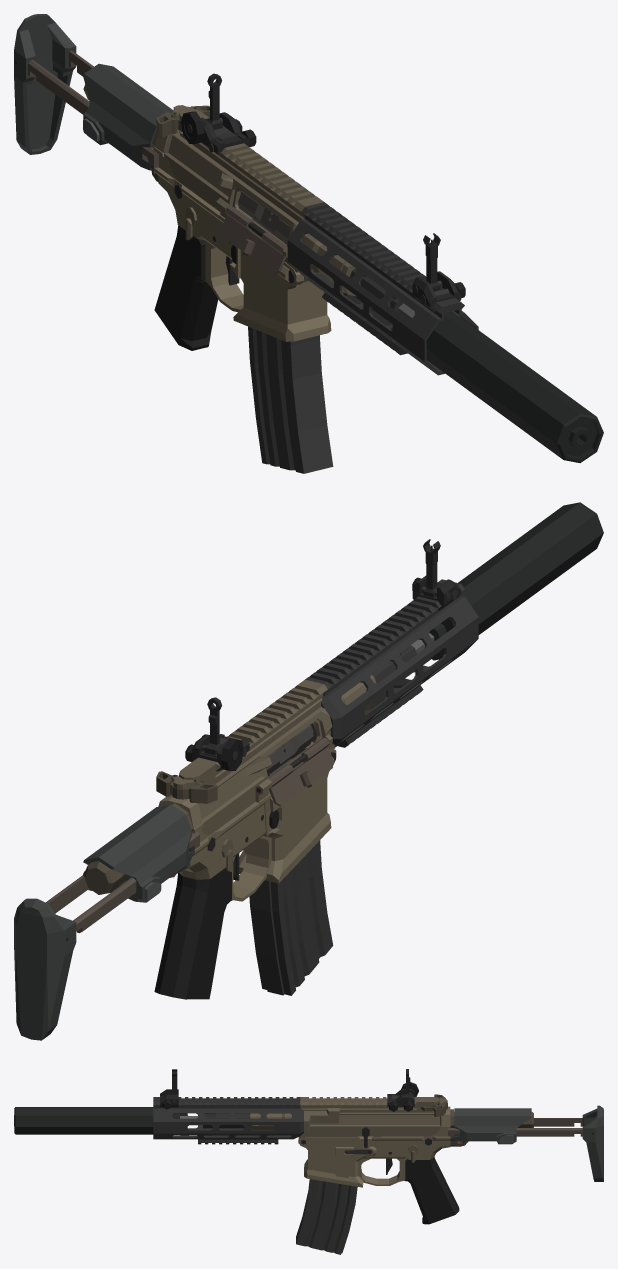
The model's file is HoneyBadger.fbx.
3 renders of one model, top to bottom at view 1: azimuth 30°, elevation 25°; view 2: azimuth 150°, elevation 25°; view 3: azimuth 270°, elevation 25°, orthographic. The views are drawn at different scales.
Visible parts, largest first — view 1: Cube.005; view 2: Cube.005; view 3: Cube.005.
Boxes of the visible parts, x1,y1,x2,y2 form: Cube.005: [14, 14, 603, 473]; Cube.005: [14, 502, 603, 1040]; Cube.005: [14, 1069, 603, 1254].
Bounding box in the file's own units: 1.72 × 8.35 × 24.52.
